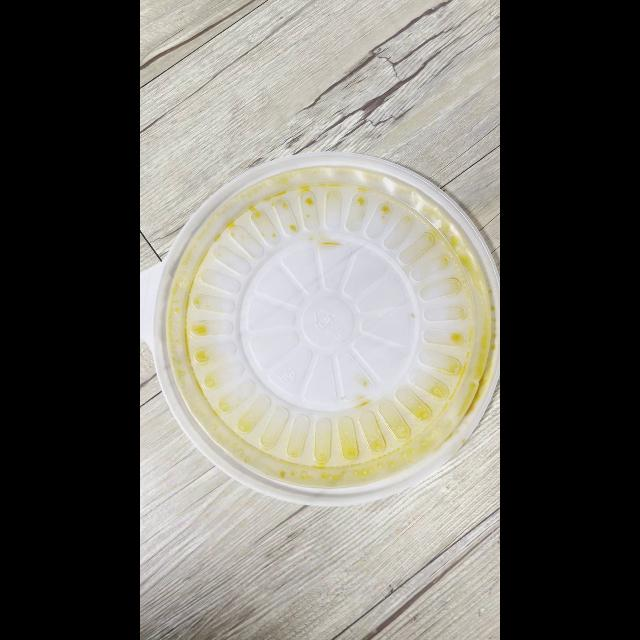dirty: (156, 152, 494, 496)
